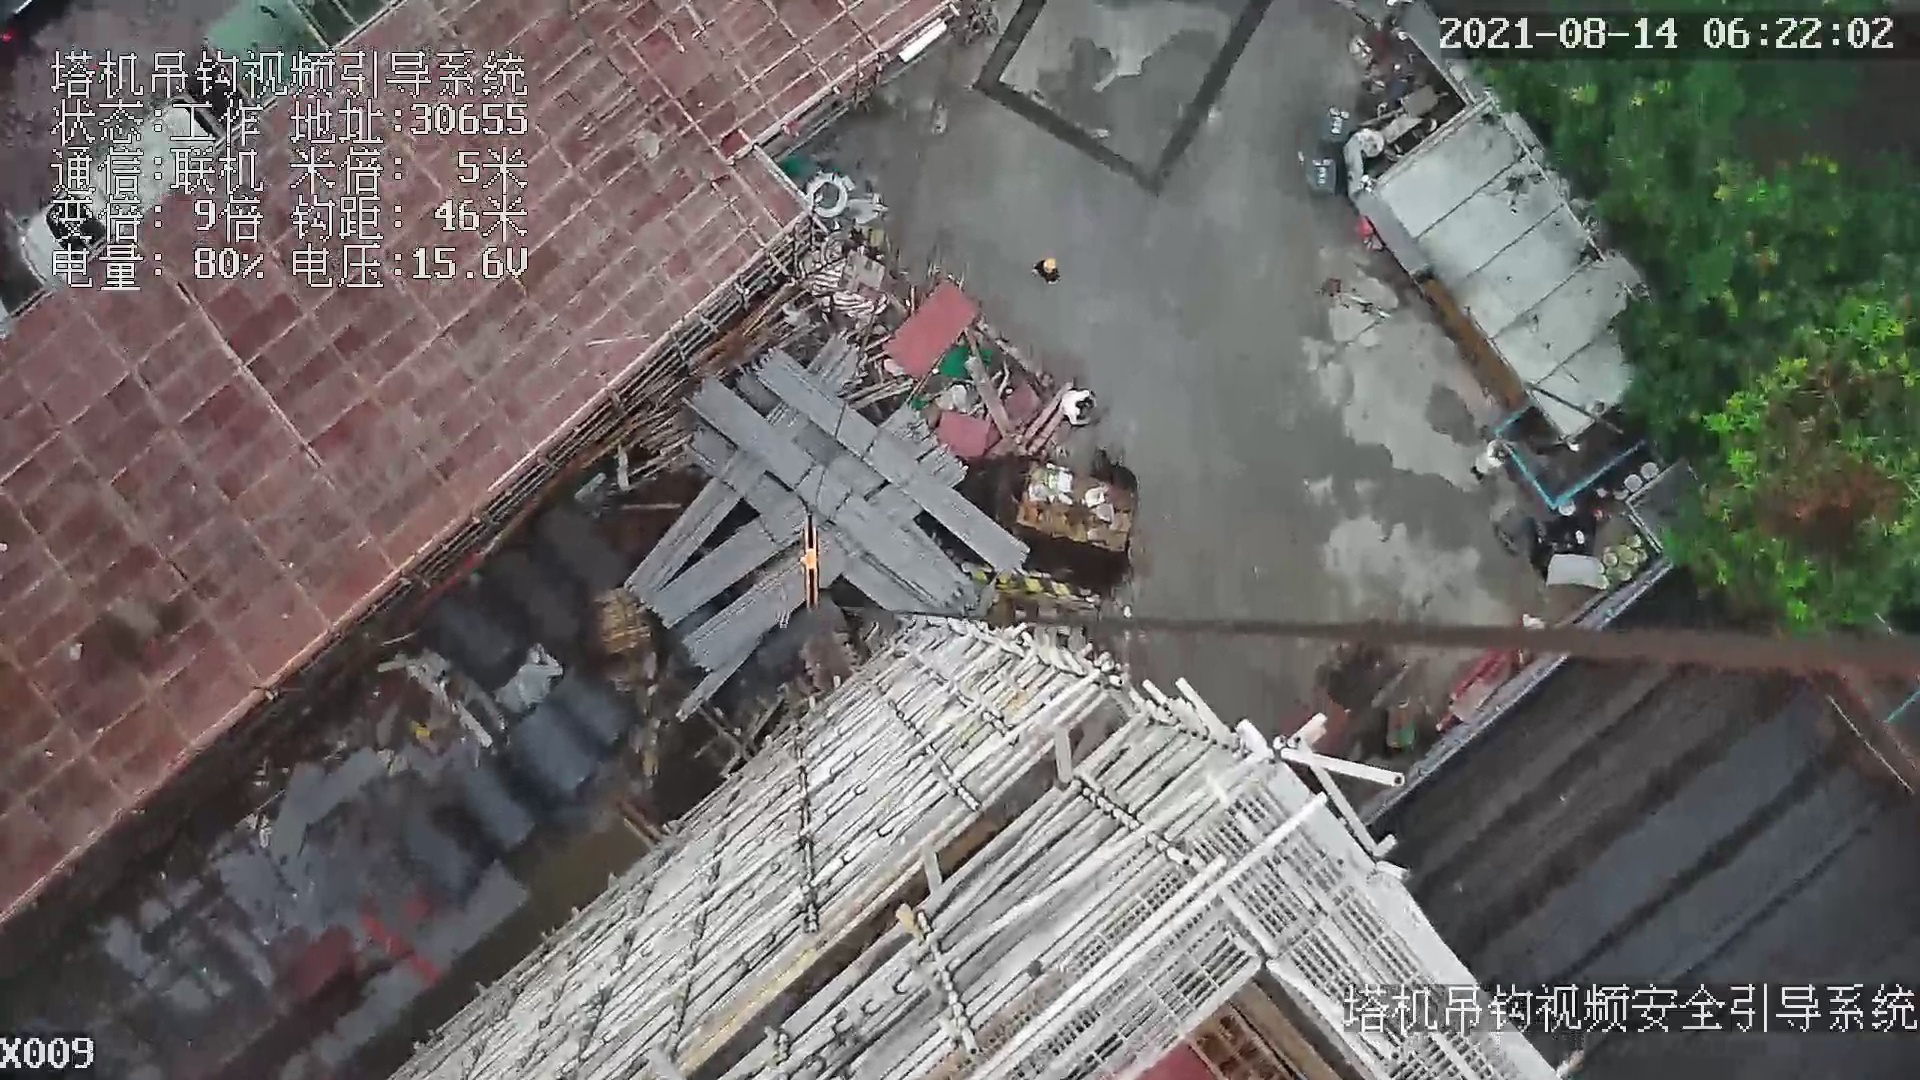hook: (796, 521, 823, 615)
